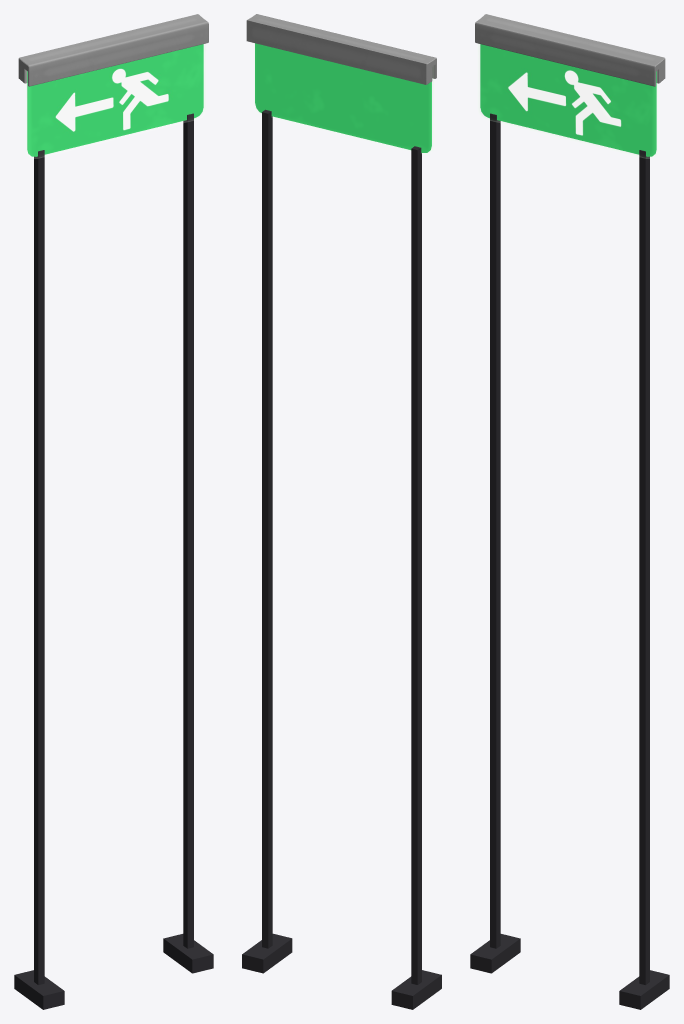
Rendered from exit_sign.gltf.
The picture shows the model from 3 angles, left to right: view 1: azimuth 30°, elevation 25°; view 2: azimuth 150°, elevation 25°; view 3: azimuth 330°, elevation 25°; orthographic projection.
Parts seen in each view (by area): view 1: Posts_Node, Sign_Low, Joint_Low, Glass_Low; view 2: Posts_Node, Sign_Low, Joint_Low; view 3: Posts_Node, Sign_Low, Joint_Low, Glass_Low.
Boxes of the visible parts, <box> form: Posts_Node: <box>14,113,213,1009</box>; Sign_Low: <box>27,44,203,156</box>; Joint_Low: <box>18,14,208,86</box>; Glass_Low: <box>26,44,205,158</box>; Posts_Node: <box>242,109,441,1009</box>; Sign_Low: <box>255,43,431,152</box>; Joint_Low: <box>246,14,436,84</box>; Posts_Node: <box>470,113,669,1009</box>; Sign_Low: <box>480,44,656,156</box>; Joint_Low: <box>475,14,665,86</box>; Glass_Low: <box>478,44,657,158</box>.
Bounding box in the file's own units: 33.82 × 168 × 9.4.
3 materials, 3 textured.
